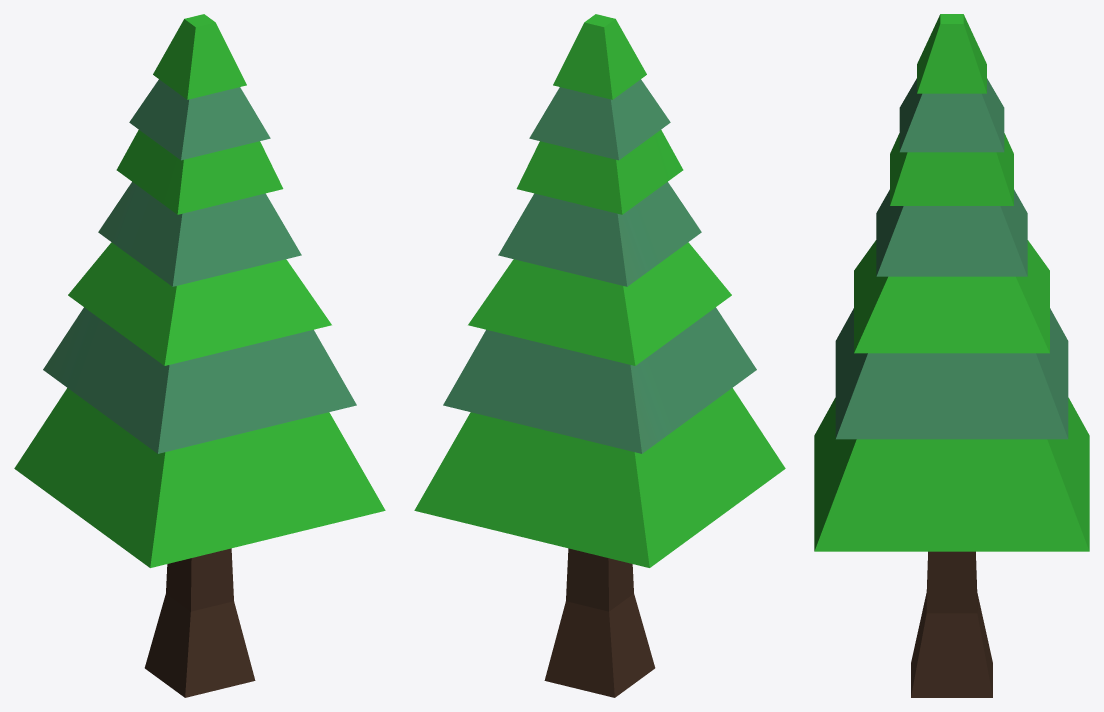
File: Pinetree_Medium.fbx
3 renders of one model, left to right at view 1: azimuth 30°, elevation 25°; view 2: azimuth 150°, elevation 25°; view 3: azimuth 270°, elevation 25°, orthographic.
Visible parts, largest first — view 1: Cube.004; view 2: Cube.004; view 3: Cube.004.
Boxes of the visible parts, x1,y1,x2,y2 form: Cube.004: (14,14,385,697); Cube.004: (414,14,785,697); Cube.004: (814,14,1089,697).
Size of the model in its own units: 440 by 1167 by 440.
